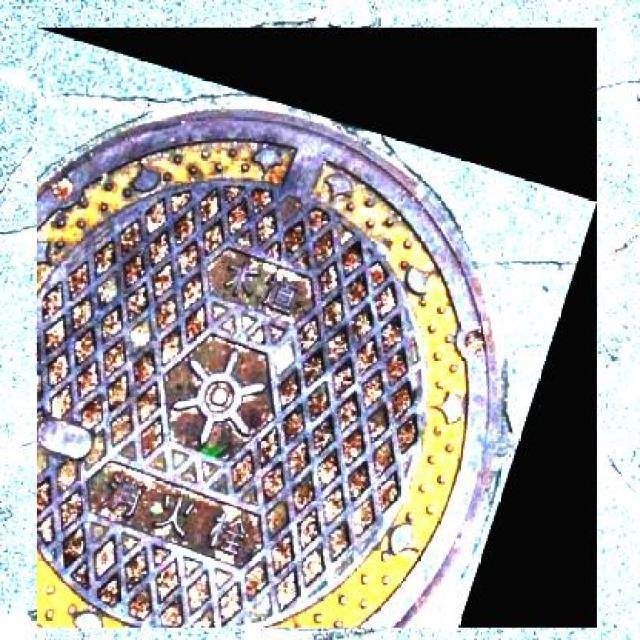Manhole: (37, 29, 597, 628)
